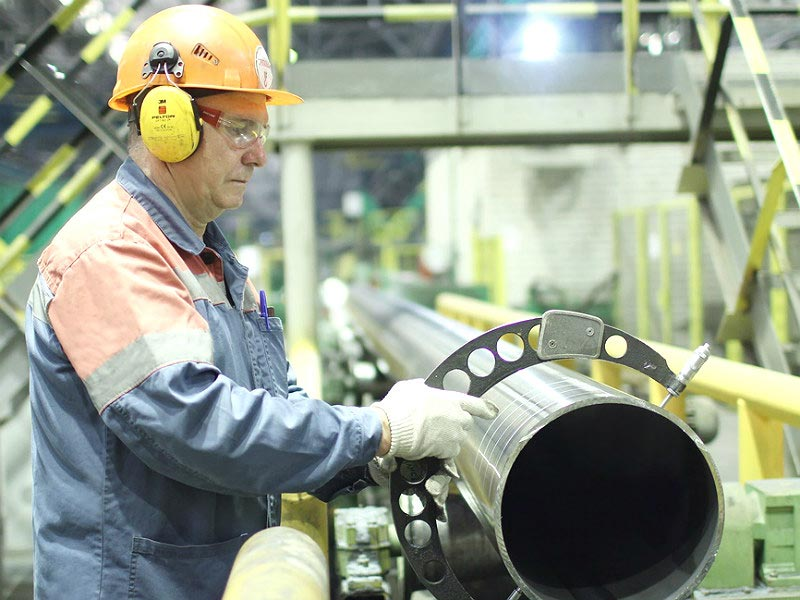person: (25, 3, 497, 600)
